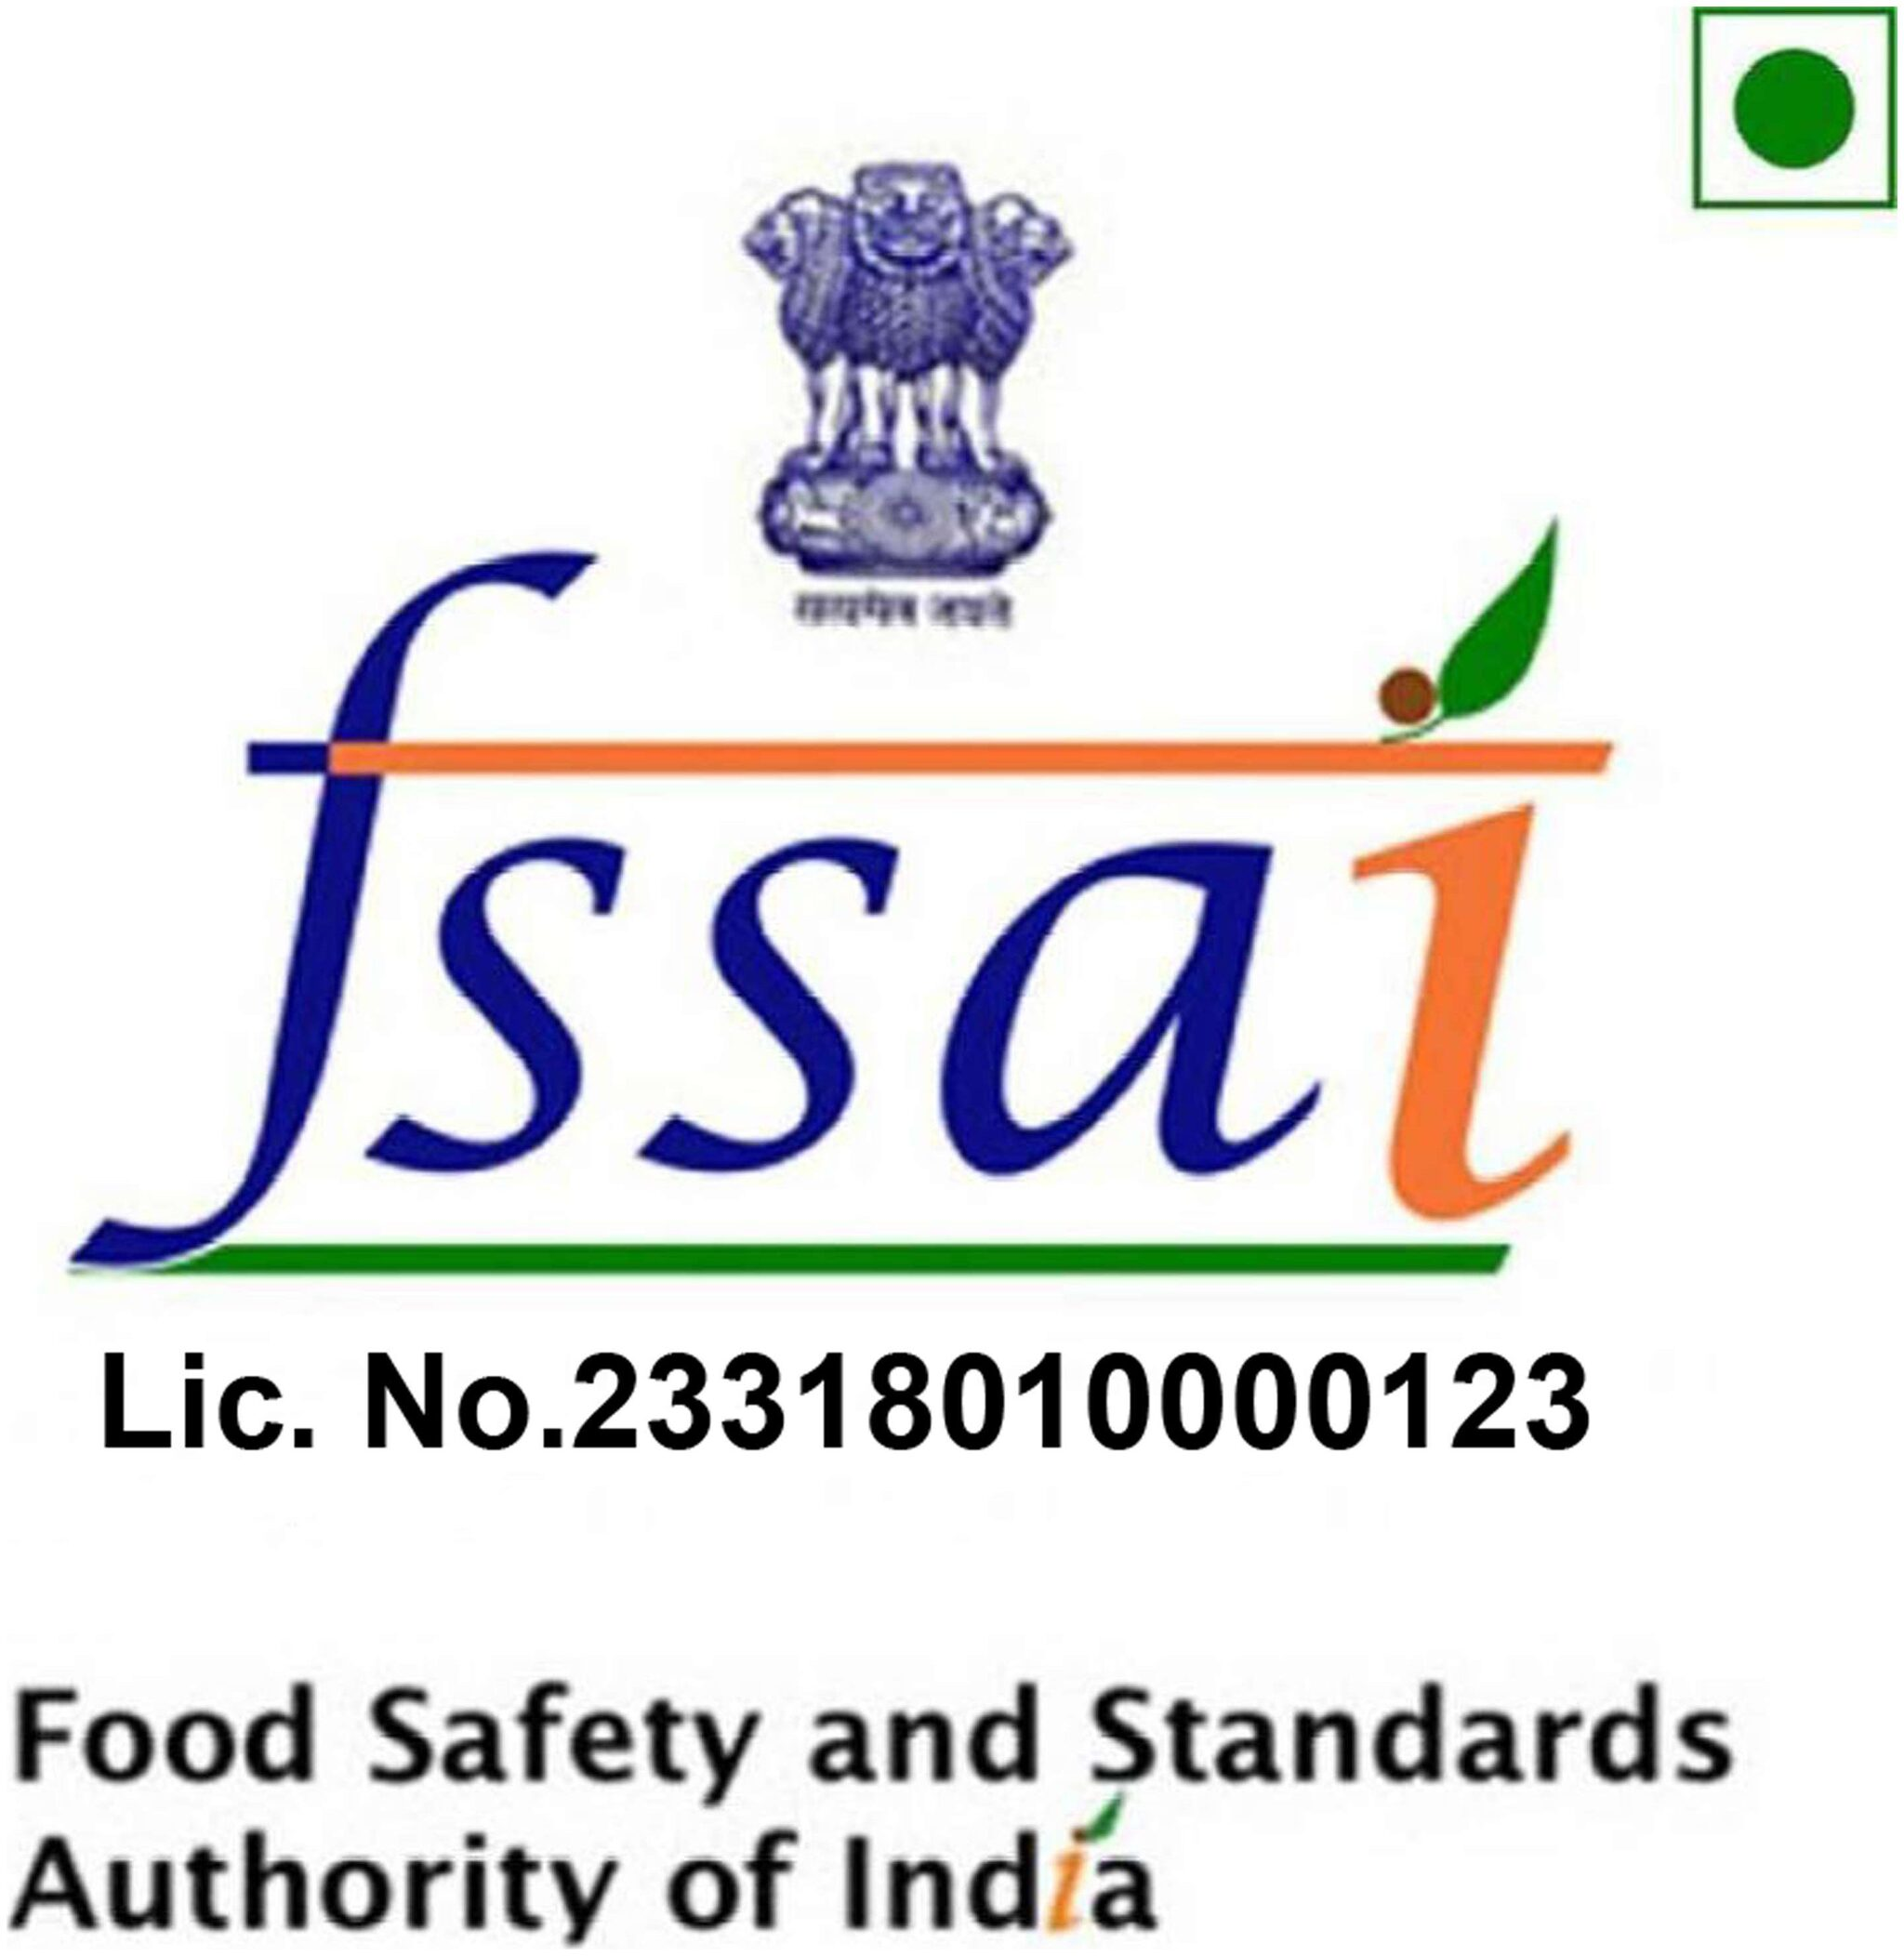fsaai: (59, 557, 1670, 1284)
